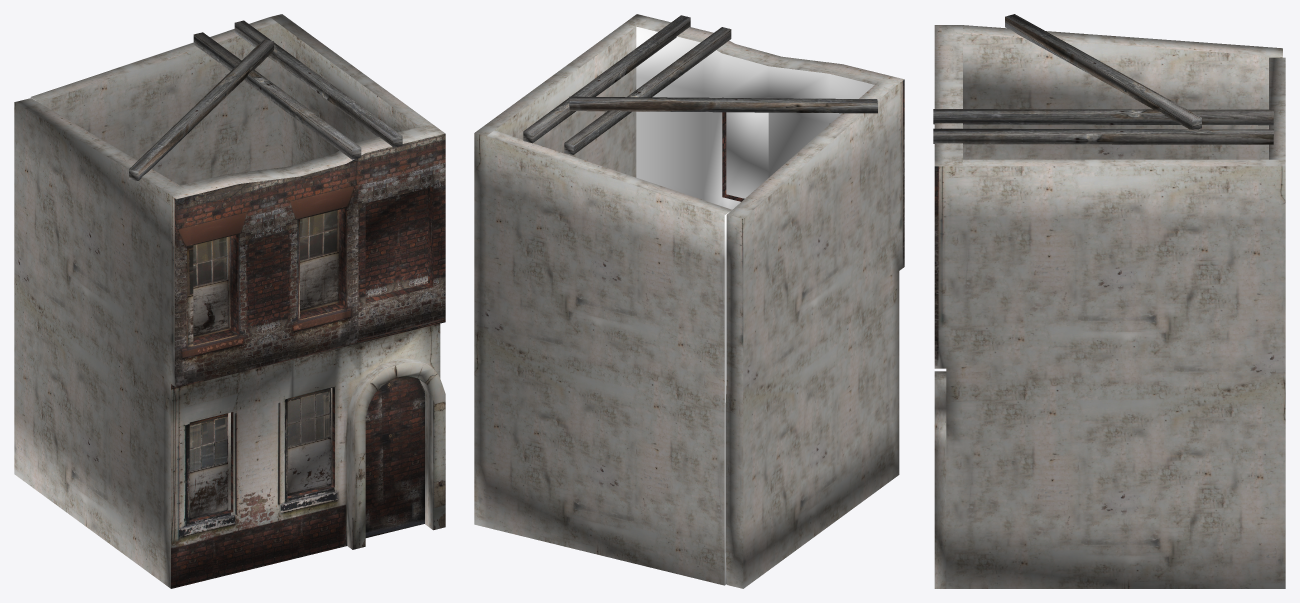
Rendered from war_torn16.dae.
The picture shows the model from 3 angles, left to right: view 1: azimuth 30°, elevation 25°; view 2: azimuth 150°, elevation 25°; view 3: azimuth 270°, elevation 25°; orthographic projection. The views are drawn at different scales.
Parts seen in each view (by area): view 1: meshU3D; view 2: meshU3D; view 3: meshU3D.
Boxes of the visible parts, <box> form: meshU3D: <box>14,14,445,588</box>; meshU3D: <box>474,14,904,588</box>; meshU3D: <box>933,14,1285,588</box>.
Bounding box in the file's own units: 163 × 229 × 166.
Materials: 2 (1 with a texture image).
